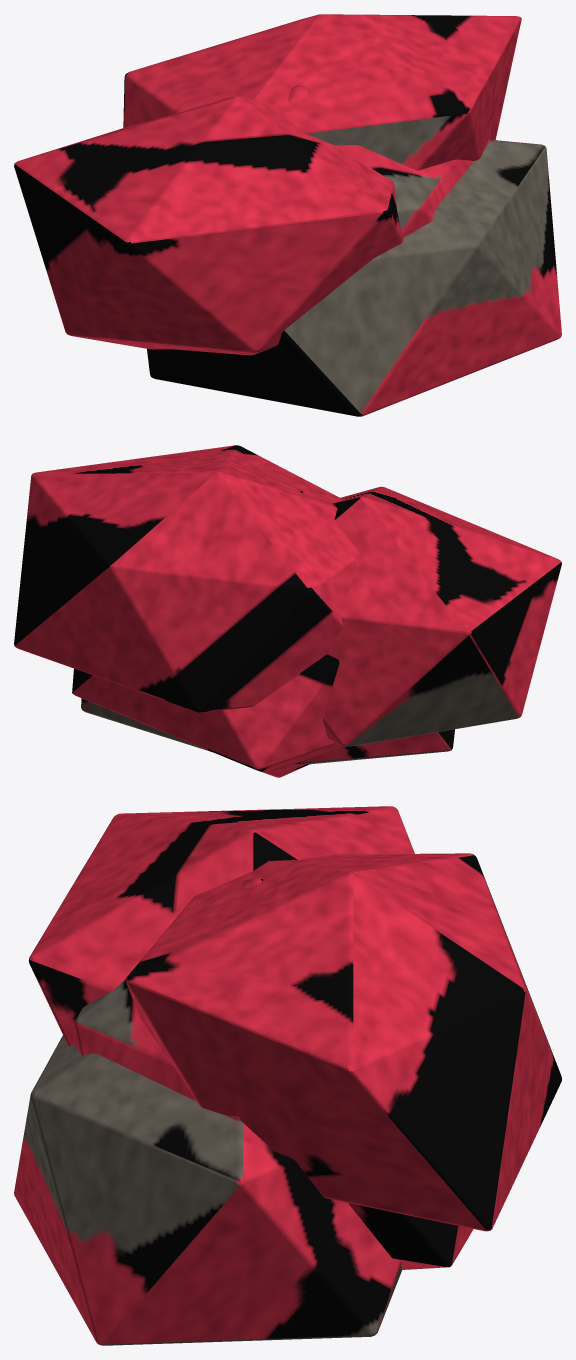
Rendered from Coal.fbx.
The picture shows the model from 3 angles, top to bottom: view 1: azimuth 30°, elevation 25°; view 2: azimuth 150°, elevation 25°; view 3: azimuth 270°, elevation 25°; orthographic projection. The views are drawn at different scales.
Parts seen in each view (by area): view 1: SDT_Mineral_Coal; view 2: SDT_Mineral_Coal; view 3: SDT_Mineral_Coal.
Part boxes in pixels (x1=…): SDT_Mineral_Coal: x1=14, y1=14, x2=561, y2=416; SDT_Mineral_Coal: x1=14, y1=445, x2=561, y2=777; SDT_Mineral_Coal: x1=14, y1=806, x2=561, y2=1345.
Bounding box in the file's own units: 60 × 40 × 44.
